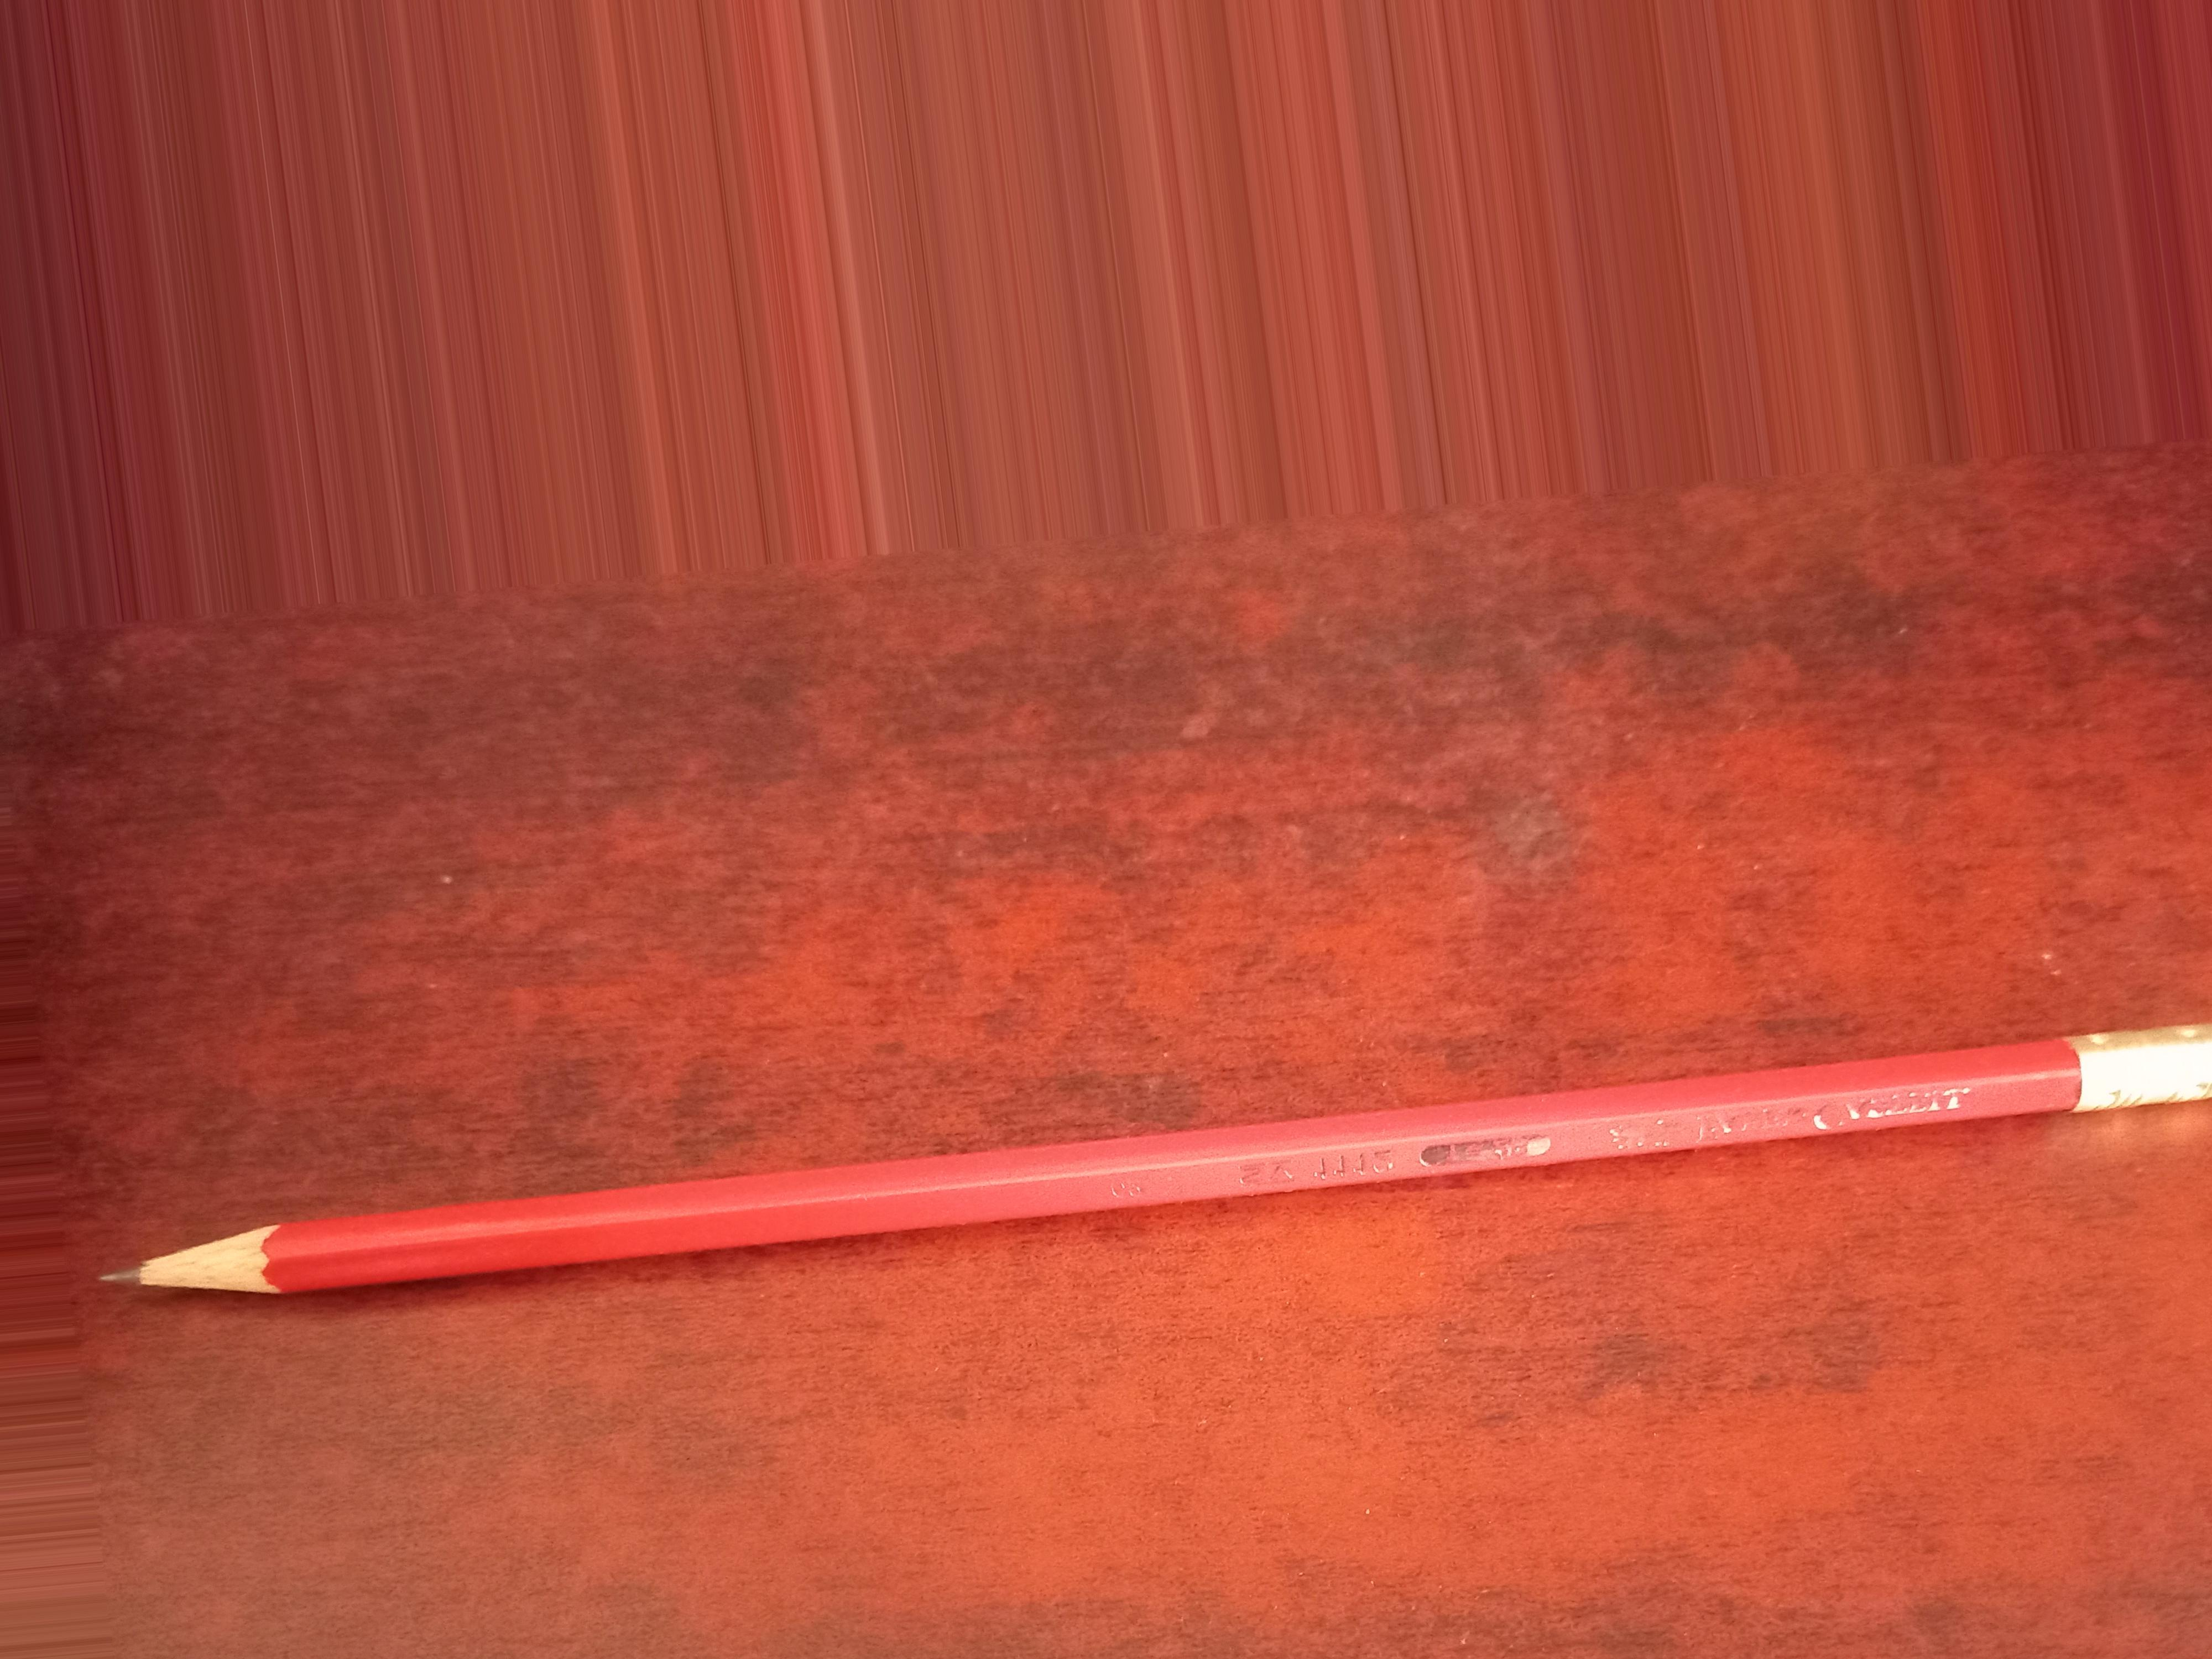pencil: (19, 1009, 2212, 1305)
